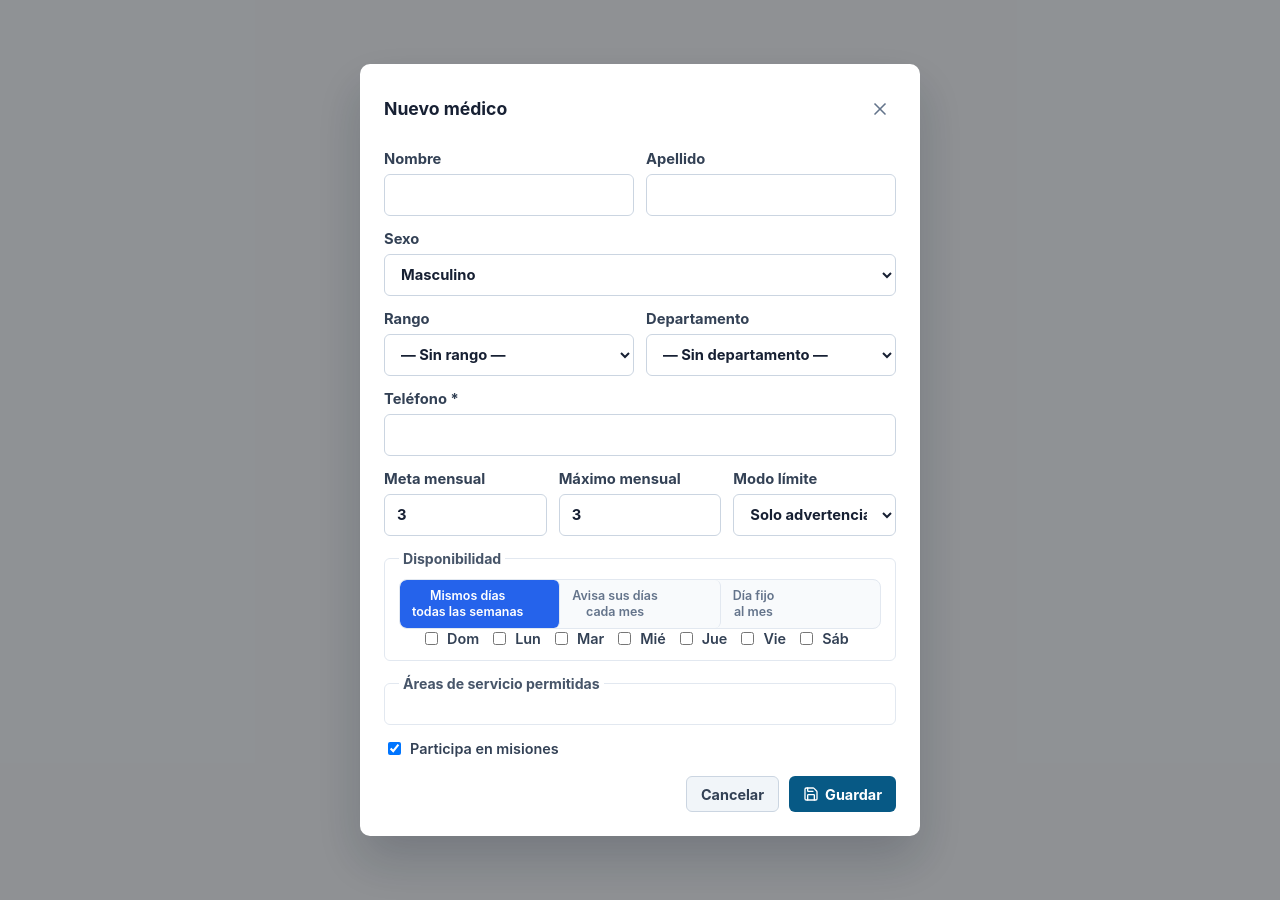
DoctorForm availability › shows recurring selectors when recurring toggle selected
What coordinates should you click on to do the following:
click the button "Día fijo"
I would click on:
 (800, 604)
Its box is [721, 580, 880, 628].
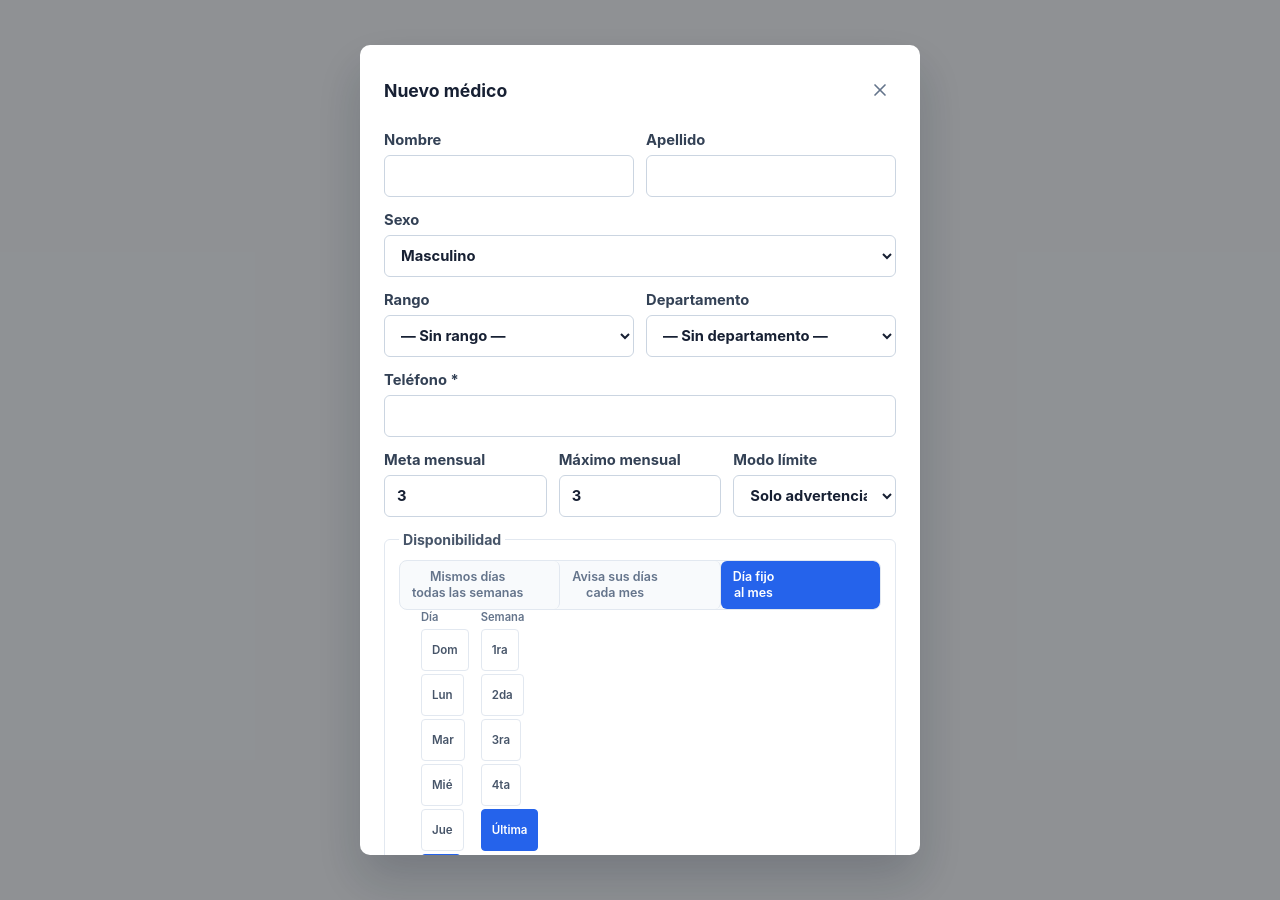
Result: the button "Última" is shown at [481, 809, 538, 851]
